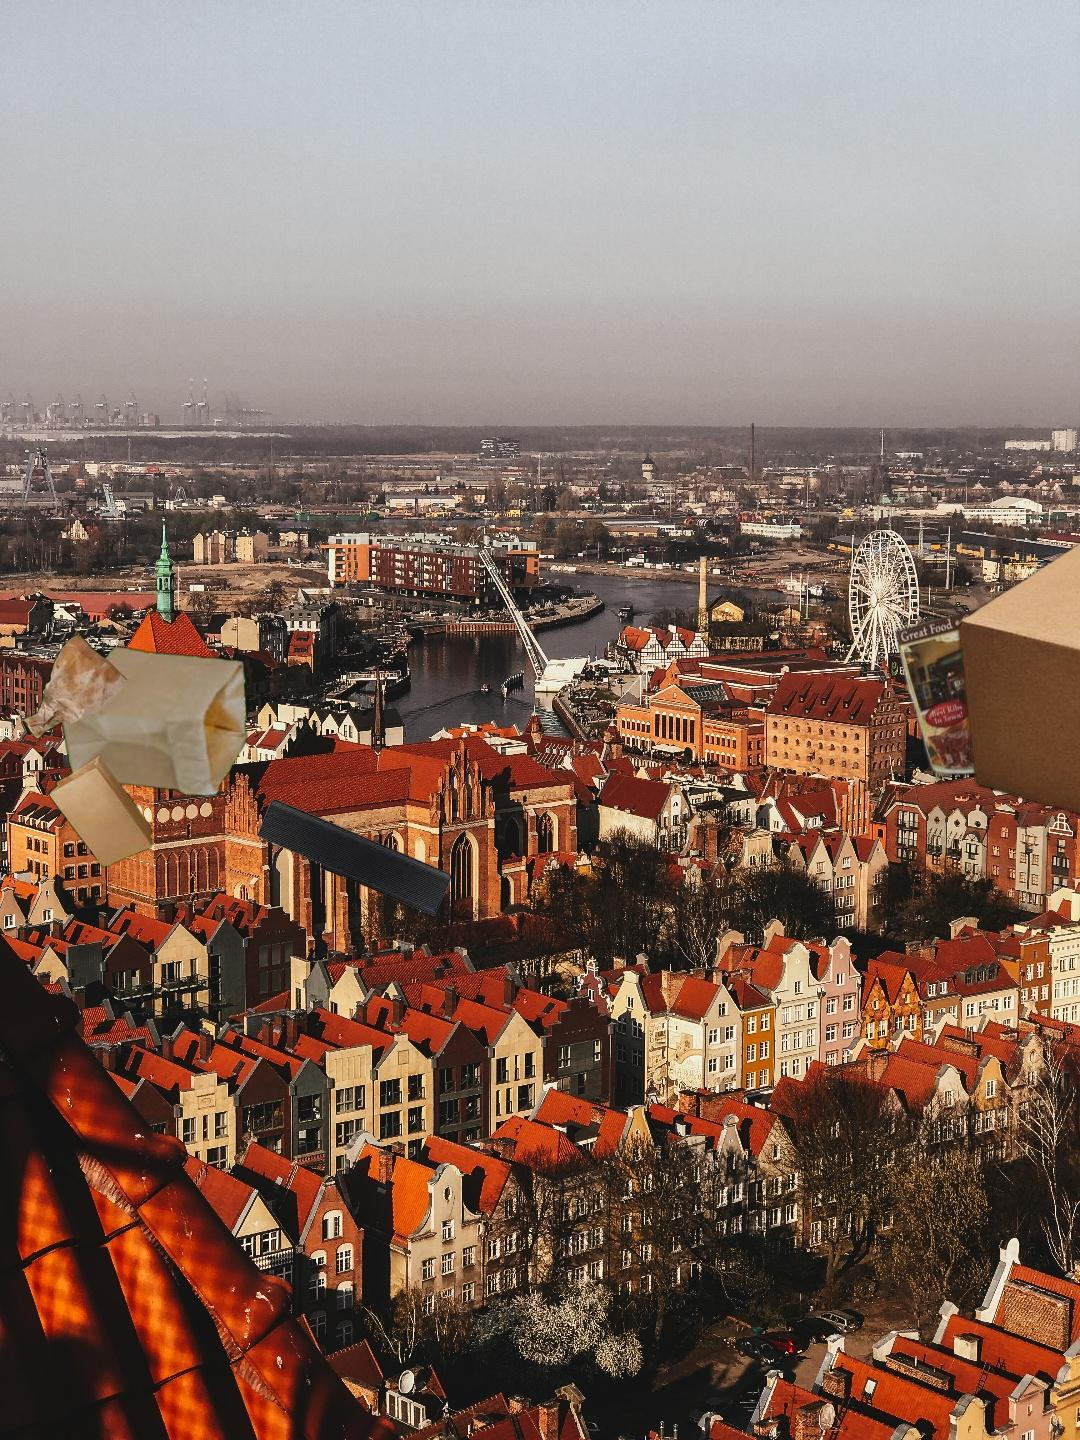battery: (255, 796, 454, 920)
paper: (885, 522, 1080, 791)
paper-bag: (20, 632, 250, 870)
trashbox-cardboard: (951, 500, 1080, 869)
